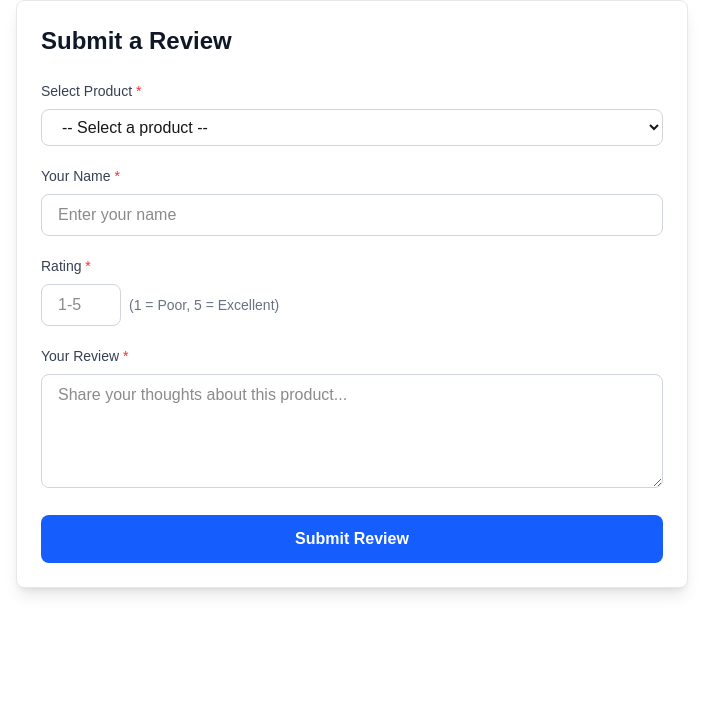
Test: ProductReviewForm › validates comment minimum length
Expected: the dropdown labelled "Select Product *" is shown, 41,109 -> 663,146
Type "Short" into the text box labelled "Your Review *" at (352,431), box 41,374 -> 663,488
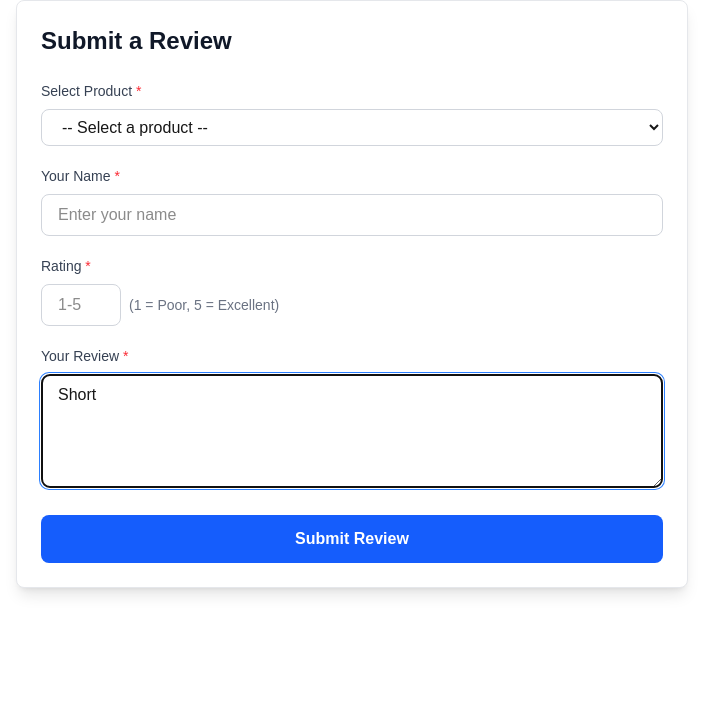
Click the button "Submit Review" at (352,539), box 41,515 -> 663,563
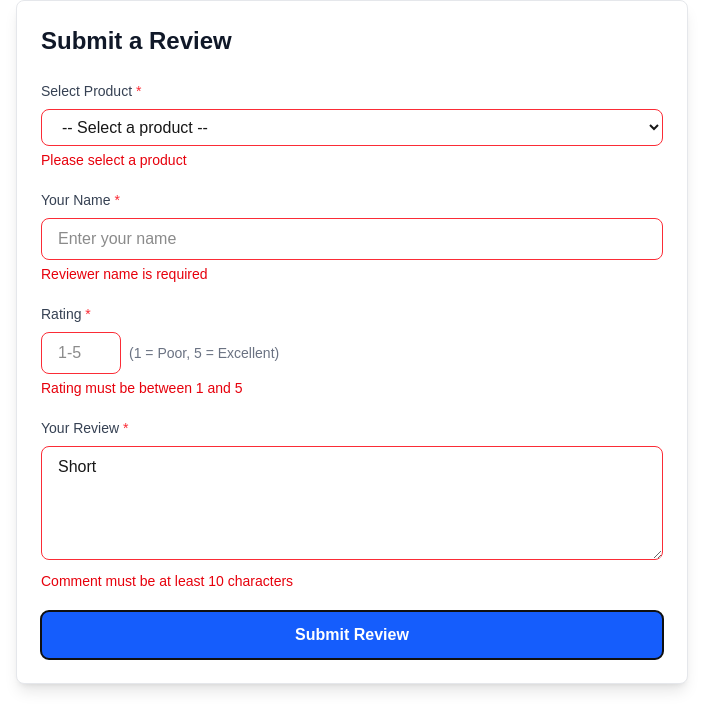
Now the text "Comment must be at least 10 characters" is shown, box 41,573 -> 293,589
